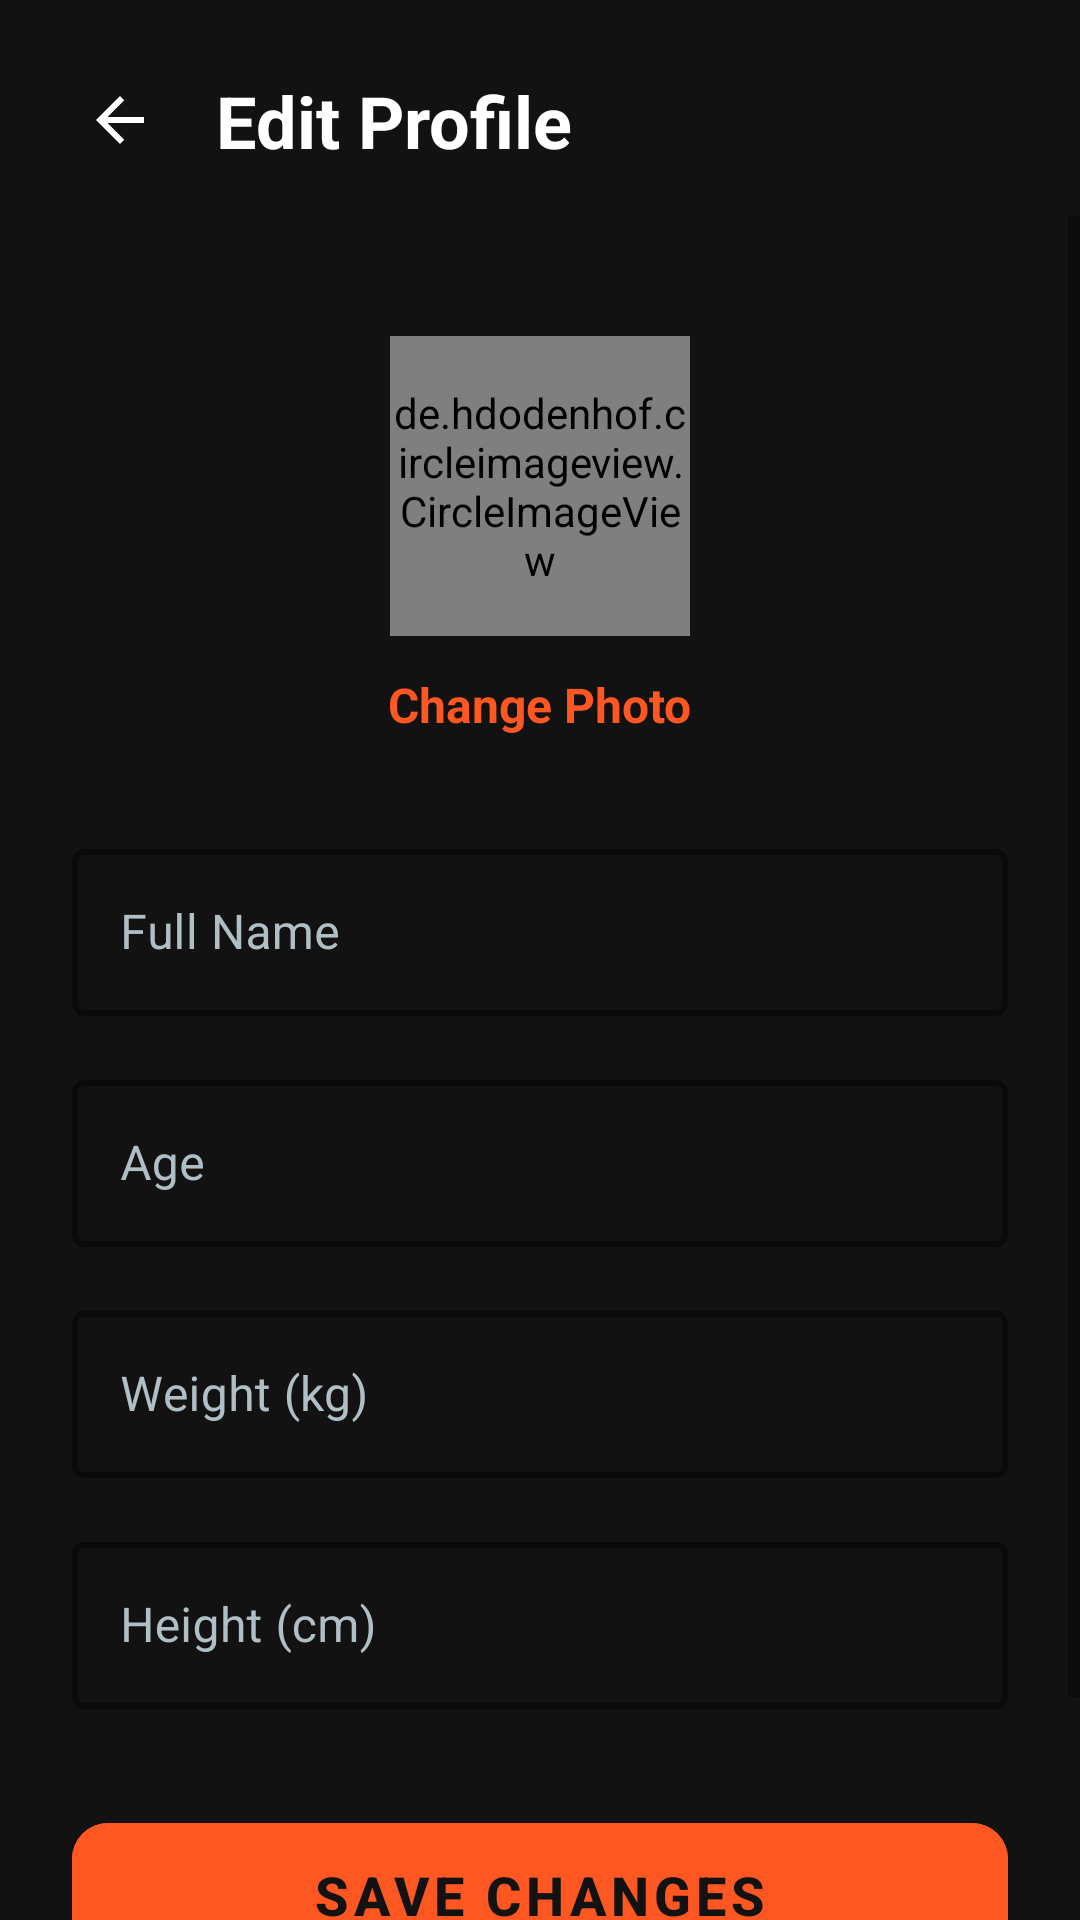

Screen size 1080px×1920px. Icon name, then its center in pixels as (x=x, y=y):
Go Back: (x=120, y=120)
